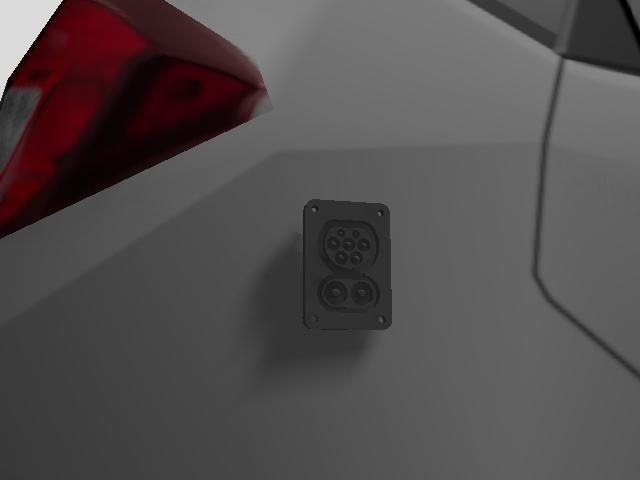EV-socket: (299, 191, 394, 333)
